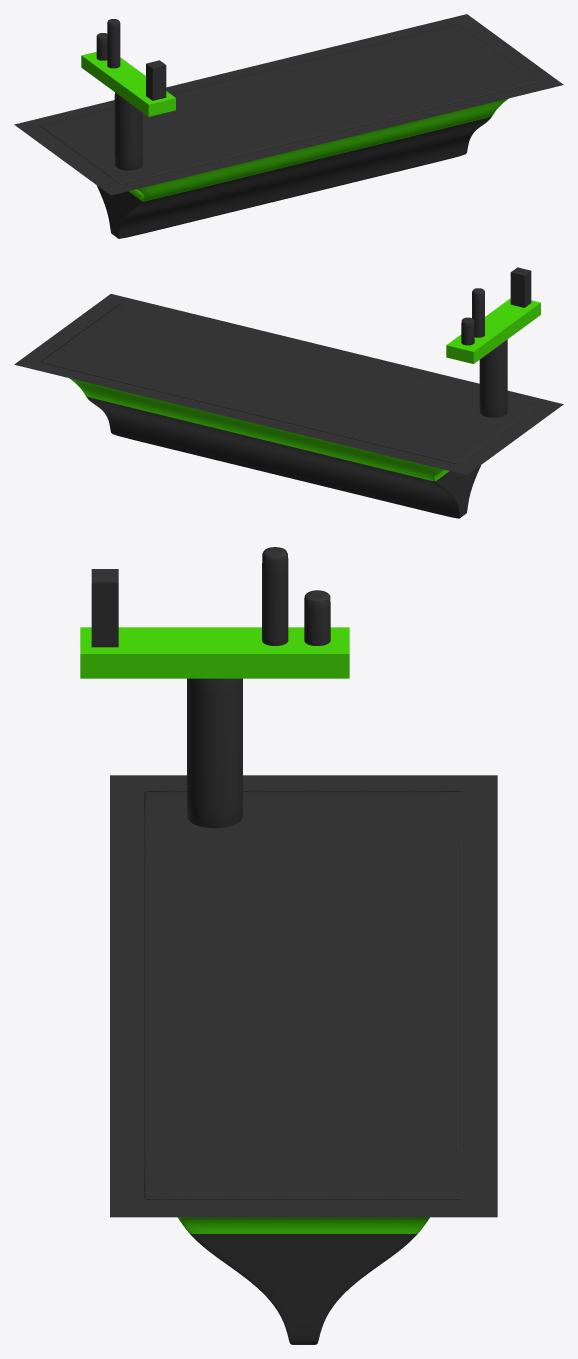
The model's file is Transport.fbx.
The picture shows the model from 3 angles, top to bottom: view 1: azimuth 30°, elevation 25°; view 2: azimuth 150°, elevation 25°; view 3: azimuth 270°, elevation 25°; orthographic projection. The views are drawn at different scales.
Parts seen in each view (by area): view 1: Cube, Cube.003, Cube.001, Cylinder, Cube.002, Cylinder.002, Cylinder.001; view 2: Cube, Cube.003, Cube.001, Cylinder, Cube.002, Cylinder.002, Cylinder.001; view 3: Cube, Cube.003, Cube.001, Cylinder, Cylinder.002, Cube.002, Cylinder.001.
Part boxes in pixels (box(x1,y1,x2,y2)): Cube: box(41, 24, 537, 238); Cube.003: box(14, 14, 563, 195); Cube.001: box(81, 52, 175, 116); Cylinder: box(114, 92, 142, 170); Cube.002: box(146, 60, 166, 100); Cylinder.002: box(107, 19, 120, 68); Cylinder.001: box(96, 33, 107, 60); Cube: box(41, 304, 536, 518); Cube.003: box(14, 294, 563, 474); Cube.001: box(446, 298, 540, 363); Cylinder: box(479, 339, 507, 417); Cube.002: box(510, 267, 531, 307); Cylinder.002: box(472, 288, 484, 337); Cylinder.001: box(461, 317, 474, 345); Cube: box(144, 791, 463, 1344); Cube.003: box(110, 775, 497, 1217); Cube.001: box(80, 627, 349, 678); Cylinder: box(187, 678, 242, 828); Cylinder.002: box(262, 547, 288, 645); Cube.002: box(91, 569, 118, 647); Cylinder.001: box(304, 590, 330, 645).
Bounding box in the file's own units: 778 × 367 × 310.
